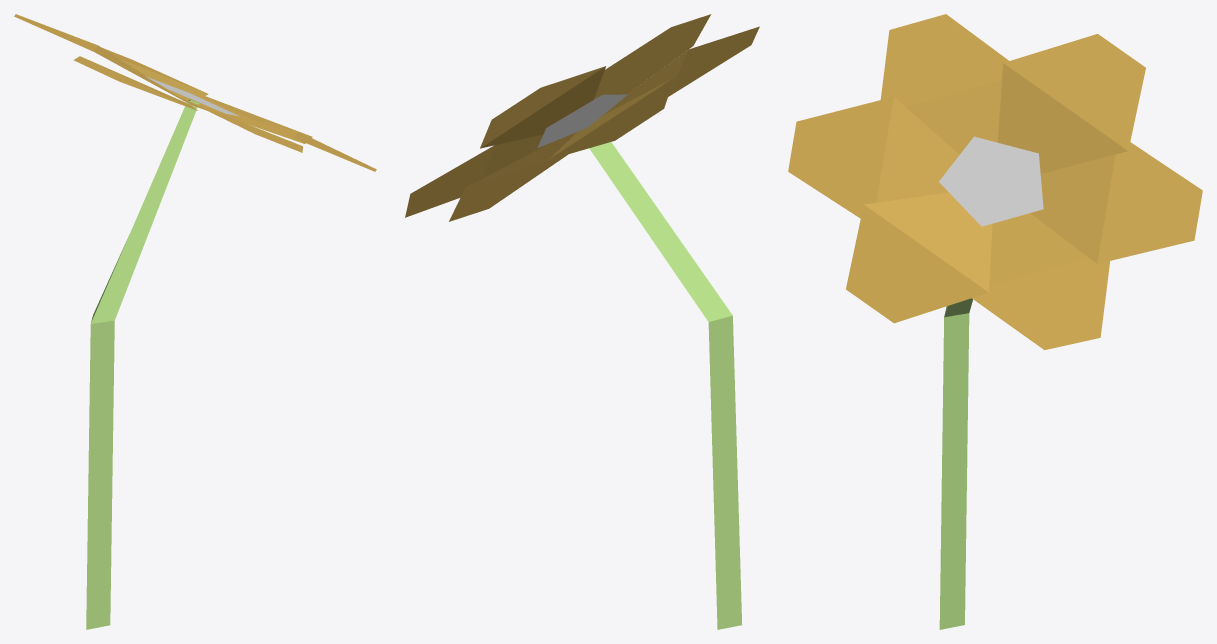
Rendered from Model_Desert_Plants5.fbx.
3 renders of one model, left to right at view 1: azimuth 30°, elevation 25°; view 2: azimuth 150°, elevation 25°; view 3: azimuth 270°, elevation 25°, orthographic. The views are drawn at different scales.
Visible parts, largest first — view 1: cao5; view 2: cao5; view 3: cao5.
Part boxes in pixels (x1,y1,x2,y2): cao5: (14,14,376,629); cao5: (405,14,759,629); cao5: (788,14,1202,629).
Size of the model in its own units: 17.27 by 32.9 by 20.66.
Materials: 1 (1 with a texture image).
